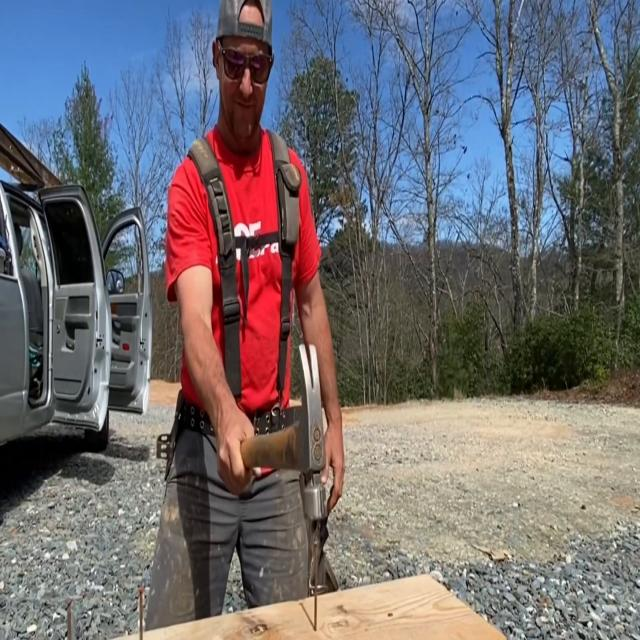hammer: (240, 344, 326, 520)
